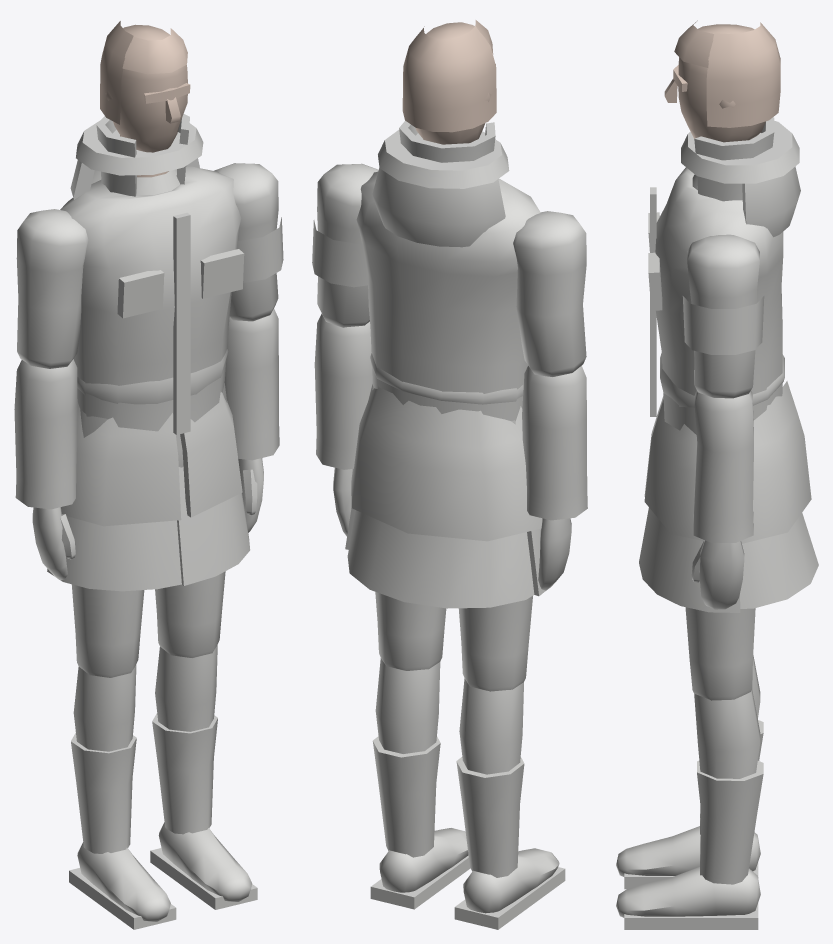
Rendered from sara2.glb.
3 renders of one model, left to right at view 1: azimuth 30°, elevation 25°; view 2: azimuth 150°, elevation 25°; view 3: azimuth 270°, elevation 25°, orthographic. The views are drawn at different scales.
Parts seen in each view (by area): view 1: torso, shin_r, shin_l, skirt, forearm_r, arm_r, head, forearm_l, coat_r, arm_l, leg_r, coat_l (+3 smaller); view 2: torso, skirt, shin_r, shin_l, coat_back, forearm_r, hood, arm_r, head, forearm_l, arm_l, leg_r (+2 smaller); view 3: torso, shin_l, skirt, forearm_l, head, arm_l, hood, leg_l, coat_back, coat_l, shin_r.
Part boxes in pixels (bbox=[...]): torso: bbox=[60, 114, 244, 434]; shin_r: bbox=[69, 664, 176, 929]; shin_l: bbox=[150, 645, 257, 909]; skirt: bbox=[61, 392, 242, 526]; forearm_r: bbox=[14, 359, 77, 579]; arm_r: bbox=[16, 209, 88, 368]; head: bbox=[100, 21, 190, 177]; forearm_l: bbox=[224, 308, 279, 532]; coat_r: bbox=[47, 467, 181, 591]; arm_l: bbox=[214, 163, 283, 321]; leg_r: bbox=[71, 584, 144, 677]; coat_l: bbox=[177, 467, 250, 585]; torso: bbox=[356, 120, 540, 421]; skirt: bbox=[351, 384, 542, 541]; shin_r: bbox=[454, 678, 565, 929]; shin_l: bbox=[370, 658, 470, 909]; coat_back: bbox=[347, 510, 534, 608]; forearm_r: bbox=[522, 365, 587, 590]; hood: bbox=[372, 130, 509, 247]; arm_r: bbox=[513, 211, 586, 376]; head: bbox=[402, 20, 496, 144]; forearm_l: bbox=[314, 313, 372, 536]; arm_l: bbox=[312, 163, 378, 327]; leg_r: bbox=[458, 596, 532, 691]; torso: bbox=[648, 117, 784, 434]; shin_l: bbox=[616, 689, 763, 929]; skirt: bbox=[644, 381, 811, 543]; forearm_l: bbox=[691, 390, 753, 609]; head: bbox=[664, 20, 780, 142]; arm_l: bbox=[682, 234, 764, 398]; hood: bbox=[681, 121, 800, 237]; leg_l: bbox=[685, 607, 755, 700]; coat_back: bbox=[740, 513, 818, 608]; coat_l: bbox=[639, 508, 740, 612]; shin_r: bbox=[616, 655, 763, 889].
Bounding box in the file's own units: 0.5452 × 1.73 × 0.3637.
